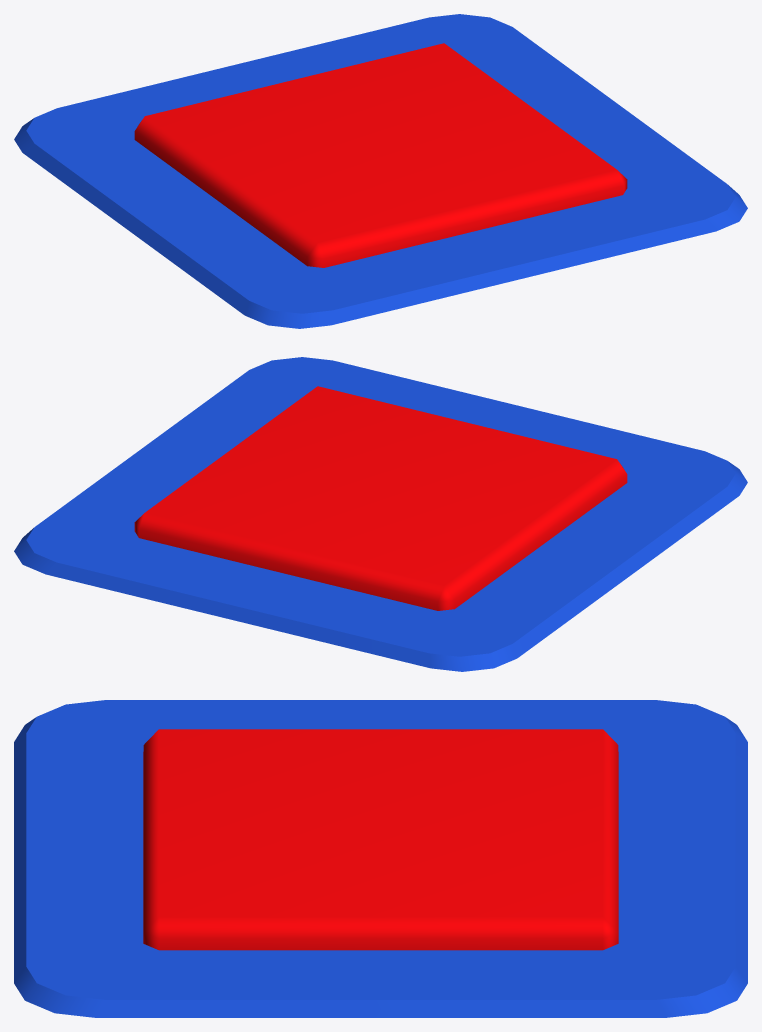
File: Button_01.glb
The picture shows the model from 3 angles, top to bottom: view 1: azimuth 30°, elevation 25°; view 2: azimuth 150°, elevation 25°; view 3: azimuth 270°, elevation 25°; orthographic projection. The views are drawn at different scales.
Parts seen in each view (by area): view 1: Button_01; view 2: Button_01; view 3: Button_01.
Boxes of the visible parts, left/top/right/bottom form: Button_01: left=14, top=14, right=747, bottom=328; Button_01: left=14, top=357, right=747, bottom=671; Button_01: left=14, top=700, right=747, bottom=1017.
Bounding box in the file's own units: 2.39 × 0.1428 × 2.39.
1 material, 1 textured.
